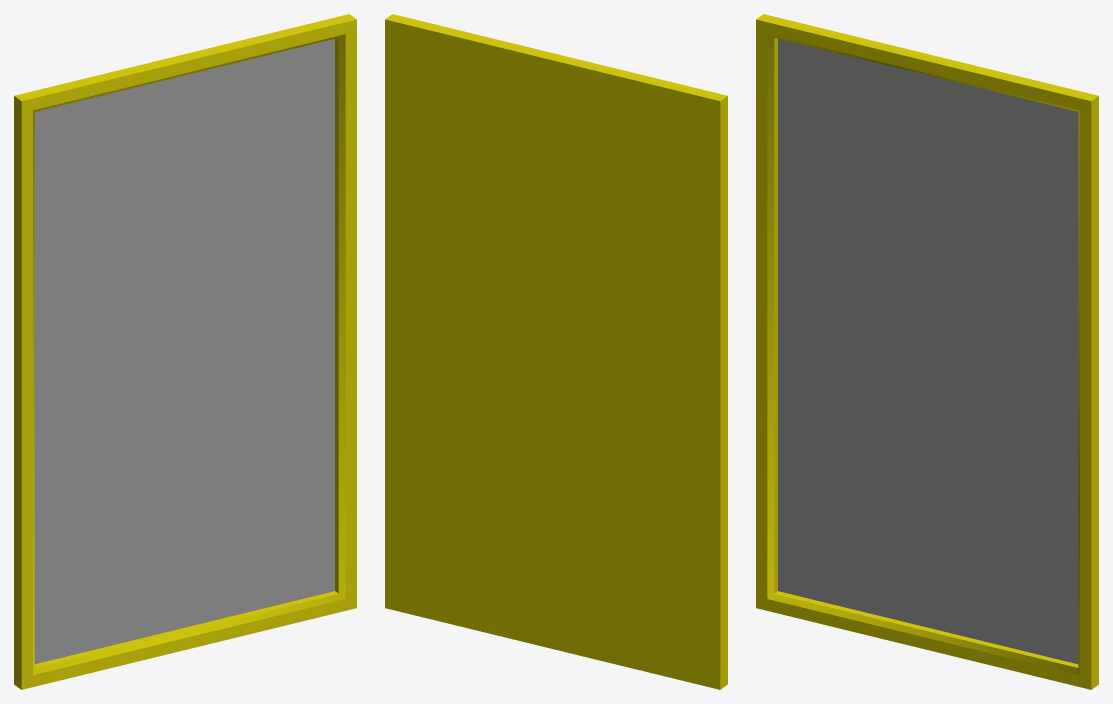
The model's file is WW_CinemaPoster_Env_01.fbx.
3 views of the same model, side by side, from view 1: azimuth 30°, elevation 25°; view 2: azimuth 150°, elevation 25°; view 3: azimuth 330°, elevation 25° (orthographic).
Visible parts, largest first — view 1: WW_CinemaPoster_Env_01; view 2: WW_CinemaPoster_Env_01; view 3: WW_CinemaPoster_Env_01.
Boxes of the visible parts, x1=… form: WW_CinemaPoster_Env_01: x1=14, y1=14, x2=356, y2=689; WW_CinemaPoster_Env_01: x1=385, y1=14, x2=727, y2=689; WW_CinemaPoster_Env_01: x1=756, y1=14, x2=1098, y2=689.
Bounding box in the file's own units: 98.54 × 165 × 3.8.
